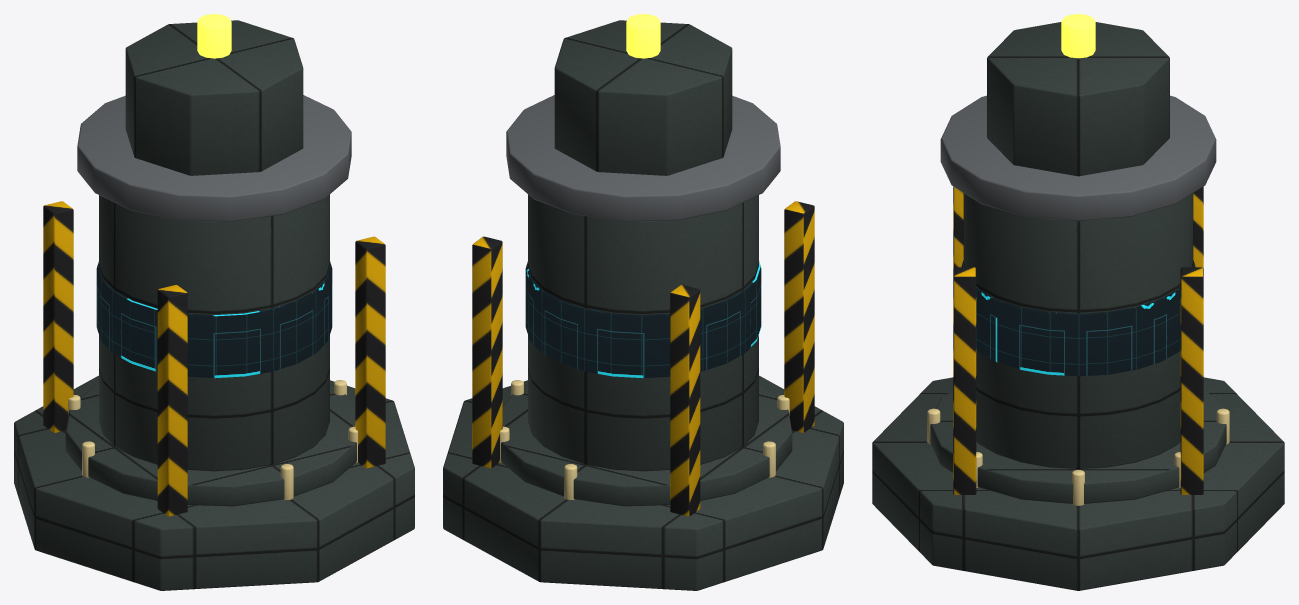
The model's file is WK_HERO_CORE_A_01.glb.
The picture shows the model from 3 angles, left to right: view 1: azimuth 30°, elevation 25°; view 2: azimuth 150°, elevation 25°; view 3: azimuth 270°, elevation 25°; orthographic projection.
Visible parts, largest first — view 1: WK_HERO_CORE_A_01; view 2: WK_HERO_CORE_A_01; view 3: WK_HERO_CORE_A_01.
Boxes of the visible parts, x1=… form: WK_HERO_CORE_A_01: x1=14, y1=14, x2=414, y2=590; WK_HERO_CORE_A_01: x1=443, y1=14, x2=843, y2=590; WK_HERO_CORE_A_01: x1=872, y1=14, x2=1284, y2=590.
Bounding box in the file's own units: 3.59 × 4.65 × 3.59.
6 materials, 3 textured.
